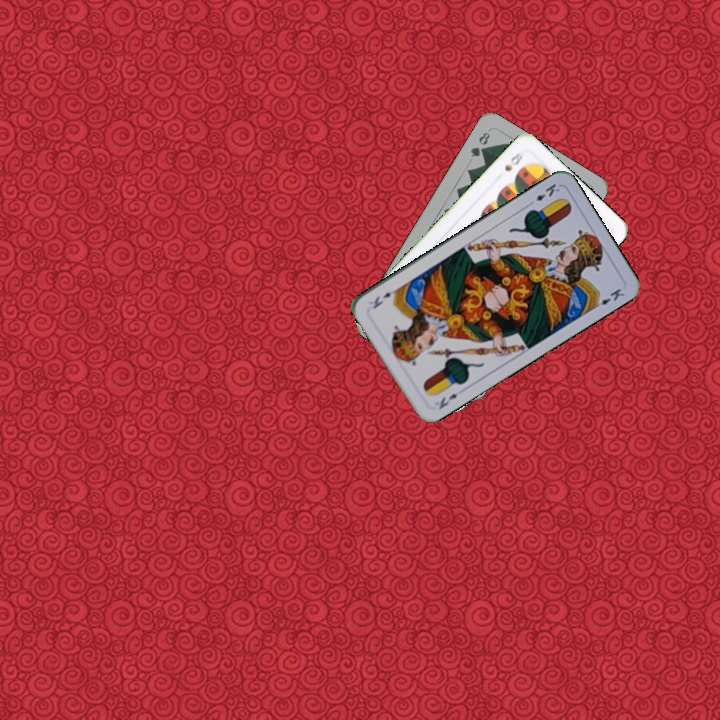EK: (524, 180, 562, 209), (434, 389, 460, 412)
G8: (466, 128, 493, 160)
S8: (500, 146, 525, 174)
